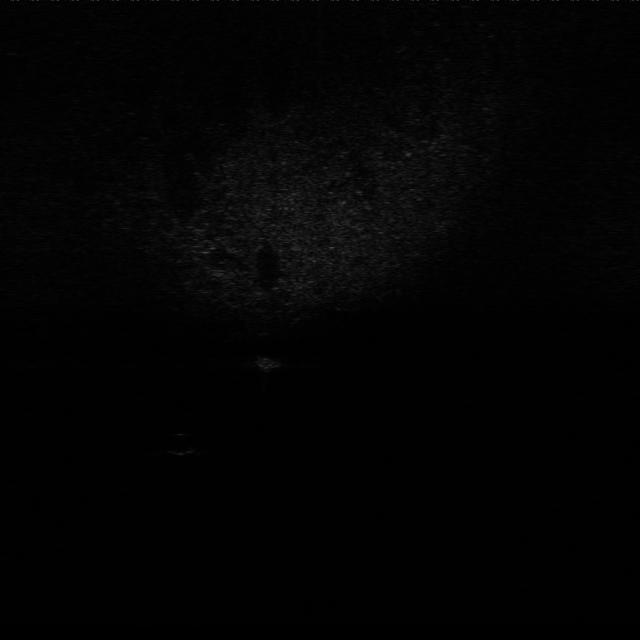ball: (166, 428, 200, 458)
cube: (257, 352, 288, 372)
